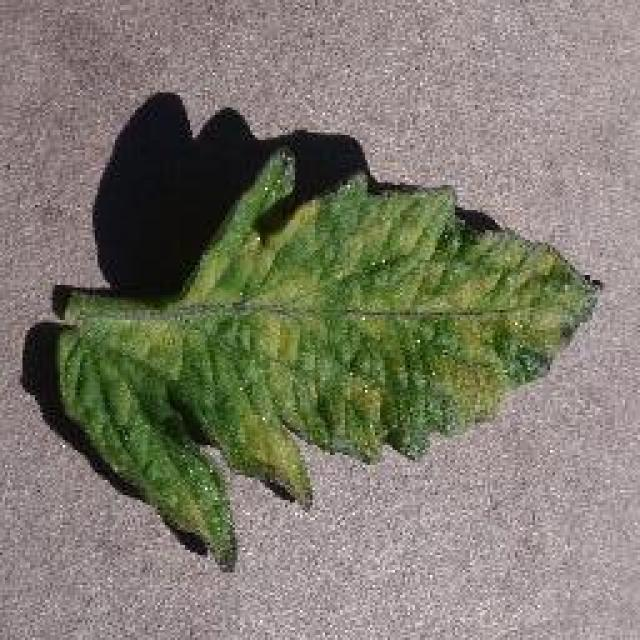Tomato mold leaf: (49, 144, 609, 576)
